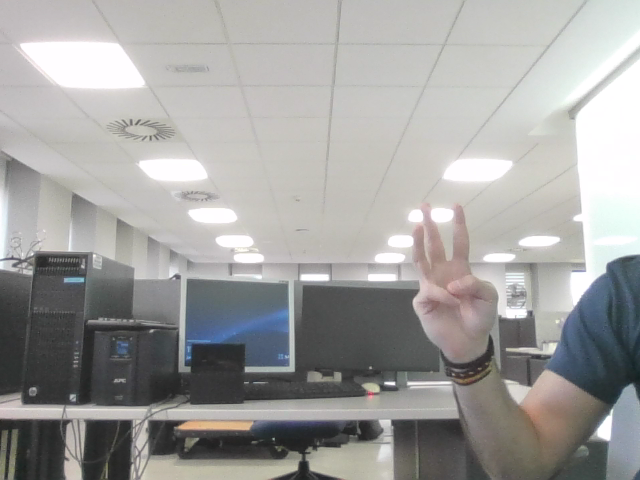3Dedos: (418, 214, 486, 317)
